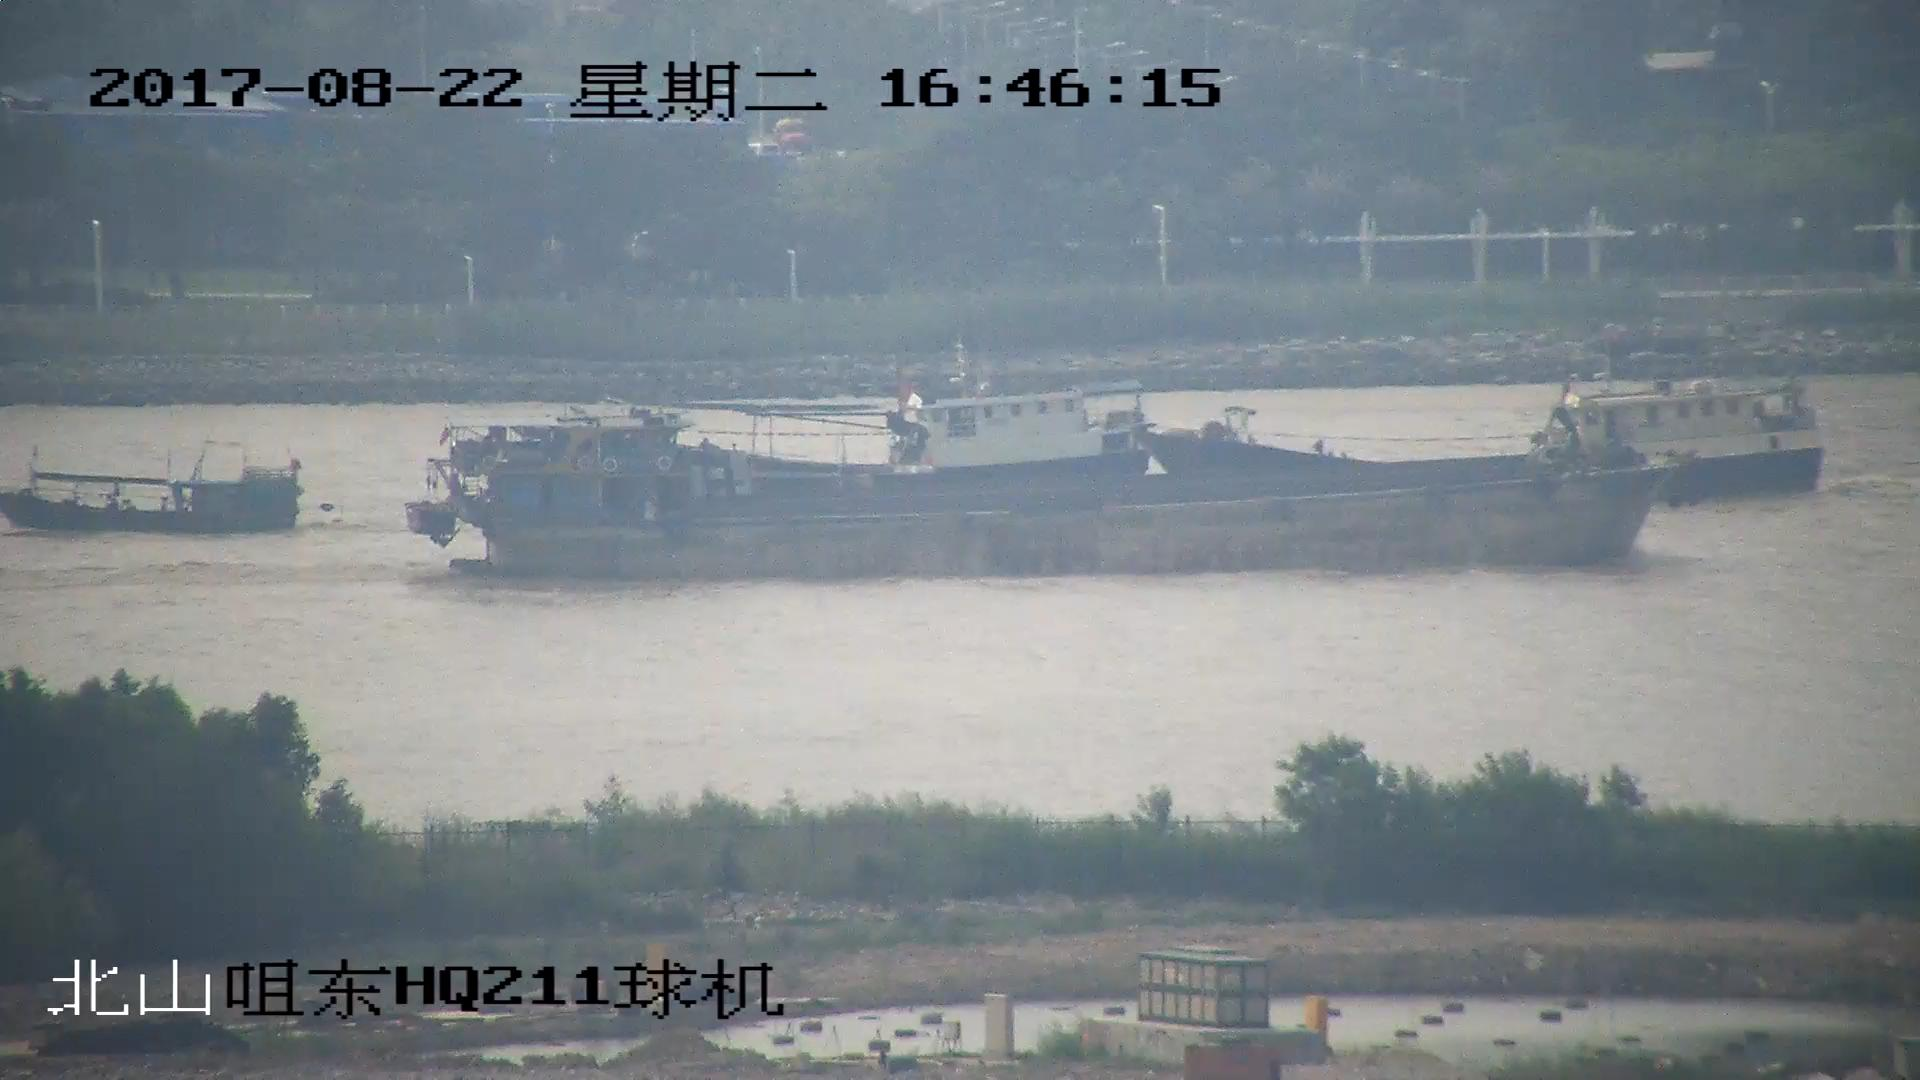bulk cargo carrier: (408, 412, 1685, 593)
fishing boat: (1123, 363, 1835, 516), (661, 367, 1146, 505), (1, 449, 310, 541)
